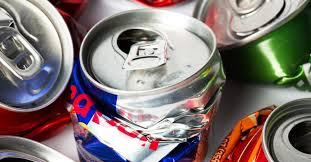metal: (71, 9, 226, 162), (196, 0, 311, 94), (0, 0, 77, 138), (216, 97, 311, 162), (0, 130, 78, 162)
